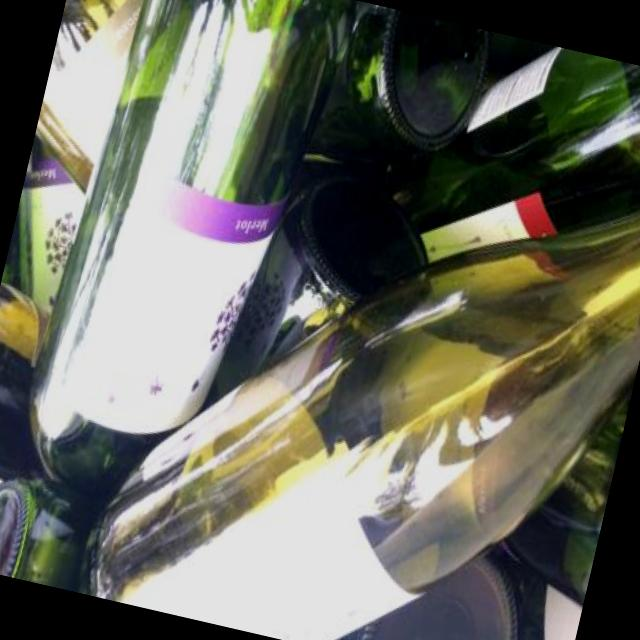chai_thuy_tinh: (89, 210, 640, 604), (31, 0, 349, 496), (214, 176, 428, 400), (392, 46, 640, 232), (309, 1, 492, 167), (35, 0, 142, 191), (0, 480, 95, 592)
